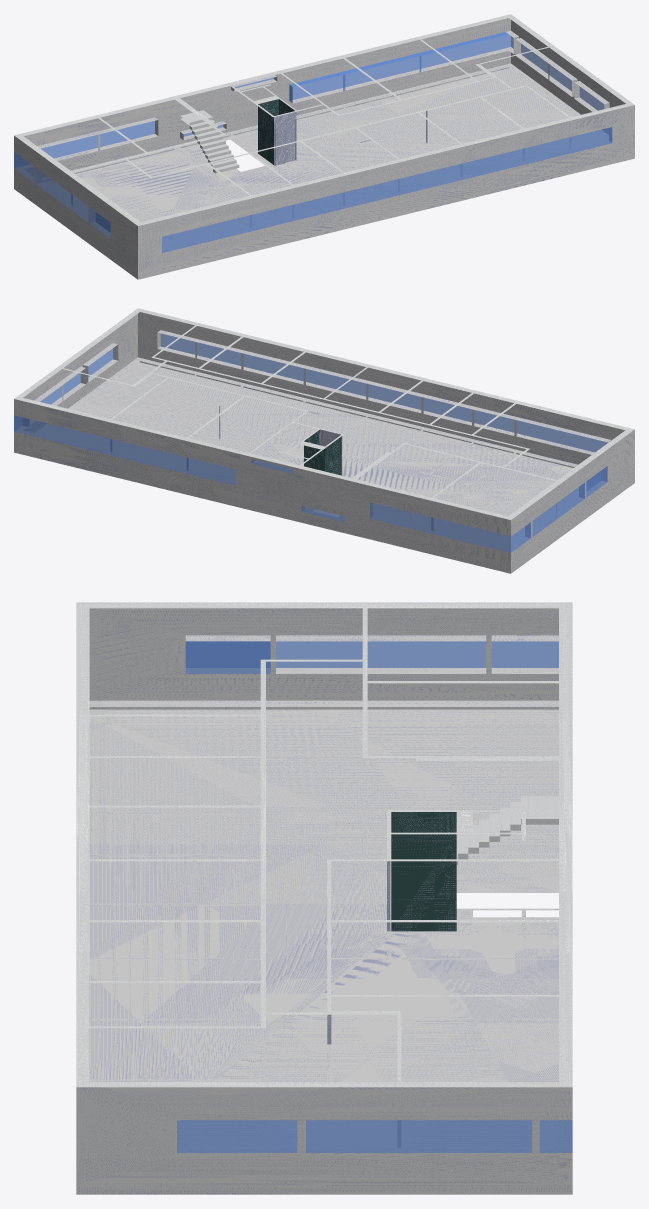
3 renders of one model, top to bottom at view 1: azimuth 30°, elevation 25°; view 2: azimuth 150°, elevation 25°; view 3: azimuth 270°, elevation 25°, orthographic. The views are drawn at different scales.
Parts seen in each view (by area): view 1: Mesh23 Model; view 2: Mesh23 Model; view 3: Mesh23 Model, Mesh21 escalera1_1 Model.
Part boxes in pixels (x1=…): Mesh23 Model: x1=14, y1=14, x2=634, y2=279; Mesh23 Model: x1=14, y1=308, x2=634, y2=573; Mesh23 Model: x1=76, y1=602, x2=572, y2=1194; Mesh21 escalera1_1 Model: x1=521, y1=796, x2=558, y2=824.
Size of the model in its own units: 31.65 by 3.26 by 13.69.
7 materials, 1 textured.
